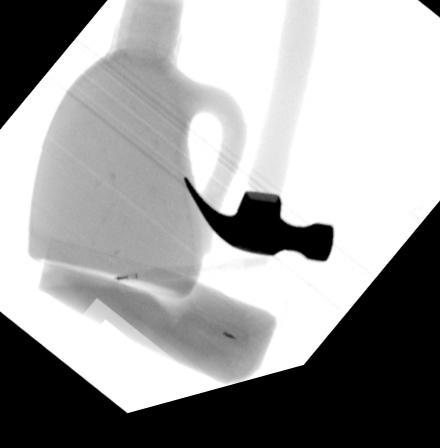Hammer: (181, 0, 336, 281)
